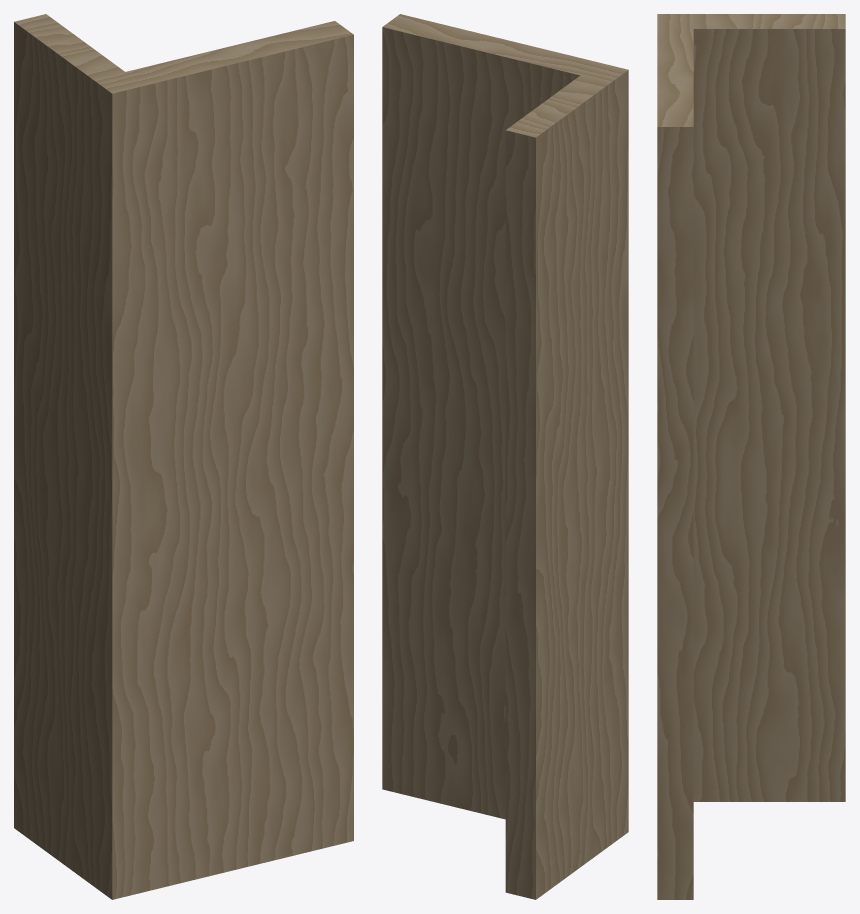
3 views of the same model, side by side, from view 1: azimuth 30°, elevation 25°; view 2: azimuth 150°, elevation 25°; view 3: azimuth 270°, elevation 25° (orthographic). The views are drawn at different scales.
Parts seen in each view (by area): view 1: Cube; view 2: Cube; view 3: Cube.
Part boxes in pixels (left/top/right/bottom): Cube: left=14, top=14, right=353, bottom=899; Cube: left=382, top=14, right=628, bottom=899; Cube: left=657, top=14, right=845, bottom=899.
Bounding box in the file's own units: 31 × 98.8 × 21.8.
